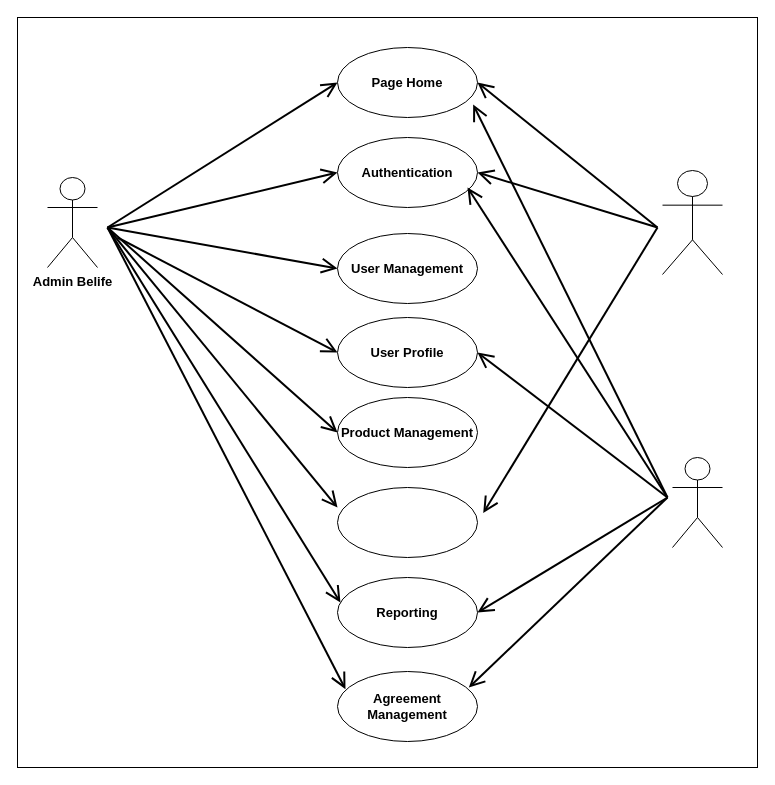
This 775x785 diagram has some shape labels left out. The shapes that lost their labels are listed below. From the top down, each one's centre as x and y in pixels, then its label:
(692,222): Customer
(407,522): Order / Transaction
(697,502): Owner Belife
